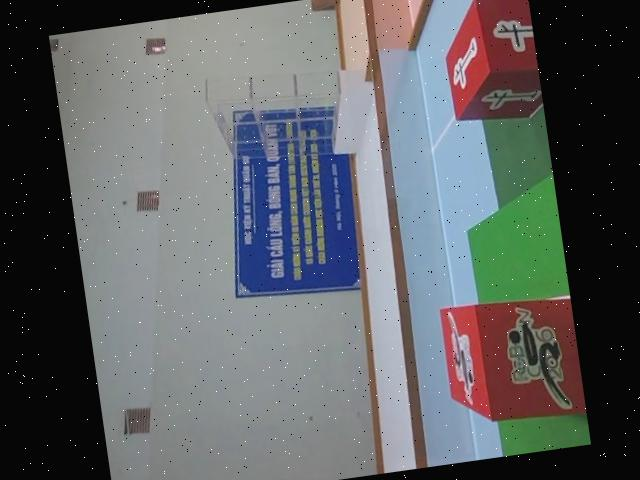R1: (434, 287, 587, 435)
R2 Real: (433, 0, 545, 130)
